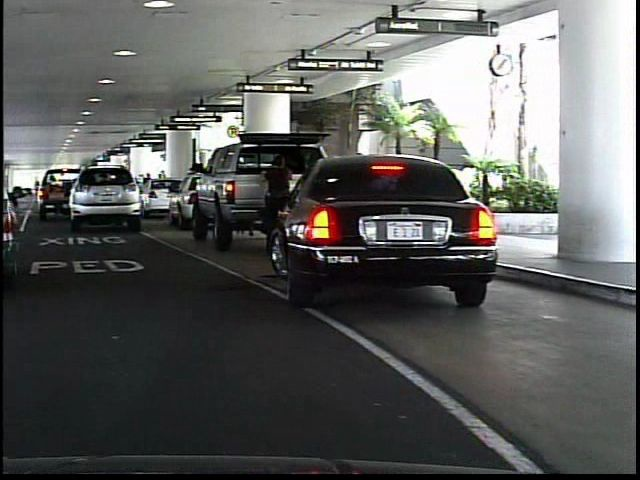person: (254, 150, 304, 253)
